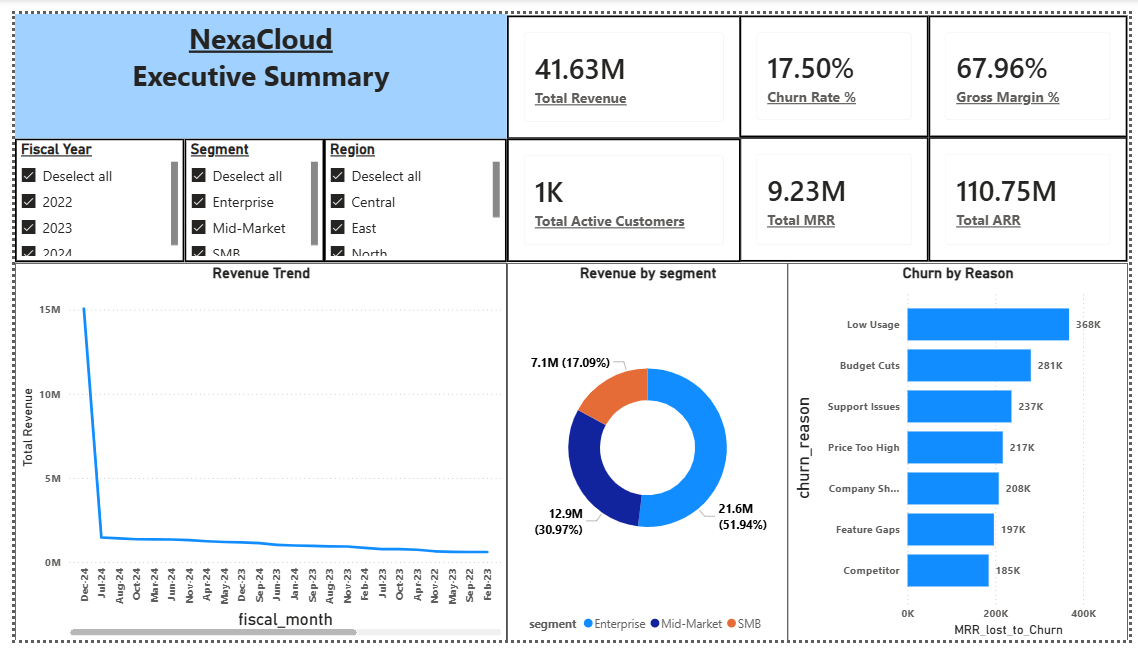

Layout of this report page (visuals, bound fields, positions):
{"tool":"powerbi","page":{"name":"Executive Summary","canvas":[1280,720],"ordinal":0},"visuals":[{"type":"cardVisual","fields":{"Data":["Revenue_Measures.Total Revenue"]},"box":[565,1.9,268.3,141.7],"z":0},{"type":"cardVisual","fields":{"Data":["MRR/ARR_Measures.Total MRR"]},"box":[833.4,141.7,217.3,143.6],"z":1000},{"type":"cardVisual","fields":{"Data":["MRR/ARR_Measures.Total ARR"]},"box":[1050.7,141.7,228.7,143.6],"z":2000},{"type":"cardVisual","fields":{"Data":["Churn_Measures.Churn Rate %"]},"box":[833.4,1.9,217.3,139.8],"z":3000},{"type":"cardVisual","fields":{"Data":["Revenue_Measures.Gross Margin %"]},"box":[1050.7,1.9,228.7,139.8],"z":4000},{"type":"cardVisual","fields":{"Data":[" Customer Measures.Total Active Customers"]},"box":[565,143.6,268.3,141.7],"z":5000},{"type":"textbox","box":[0,0,565,143.6],"z":6000},{"type":"lineChart","title":"Revenue Trend","fields":{"Y":["Revenue_Measures.Total Revenue"],"Category":["finops360 fact_transactions.fiscal_month"]},"box":[0,285.4,565,434.6],"z":7000},{"type":"donutChart","title":" Revenue by segment","fields":{"Category":["finops360 fact_transactions.segment"],"Y":["Revenue_Measures.Total Revenue"]},"box":[565,285.4,323.2,434.6],"z":8000},{"type":"clusteredBarChart","title":"Churn by Reason","fields":{"Category":["finops360 fact_churn.churn_reason"],"Y":["Churn_Measures.MRR_lost_to_Churn"]},"box":[888.2,285.4,391.2,434.6],"z":9000},{"type":"listSlicer","title":"Fiscal Year","fields":{"Values":["finops360 dim_date.fiscal_year"]},"box":[0,143.6,194.6,141.7],"z":10000},{"type":"listSlicer","title":"Segment","fields":{"Values":["finops360 fact_transactions.segment"]},"box":[194.6,143.6,160.6,141.7],"z":11000},{"type":"listSlicer","title":"Region","fields":{"Values":["finops360 fact_transactions.region"]},"box":[355.3,143.6,209.8,141.7],"z":12000}]}

Visuals, with their boxes in screenshot pixels (x1, y1, x2, y2), scaled from the page's 1280x720 canvas onto the 1138x649 screenshot:
cardVisual - Revenue_Measures.Total Revenue: 502/2/741/129
cardVisual - MRR/ARR_Measures.Total MRR: 741/128/934/257
cardVisual - MRR/ARR_Measures.Total ARR: 934/128/1137/257
cardVisual - Churn_Measures.Churn Rate %: 741/2/934/128
cardVisual - Revenue_Measures.Gross Margin %: 934/2/1137/128
cardVisual -  Customer Measures.Total Active Customers: 502/129/741/257
textbox: 0/0/502/129
"Revenue Trend" lineChart: 0/257/502/648
" Revenue by segment" donutChart: 502/257/790/648
"Churn by Reason" clusteredBarChart: 790/257/1137/648
"Fiscal Year" listSlicer: 0/129/173/257
"Segment" listSlicer: 173/129/316/257
"Region" listSlicer: 316/129/502/257
